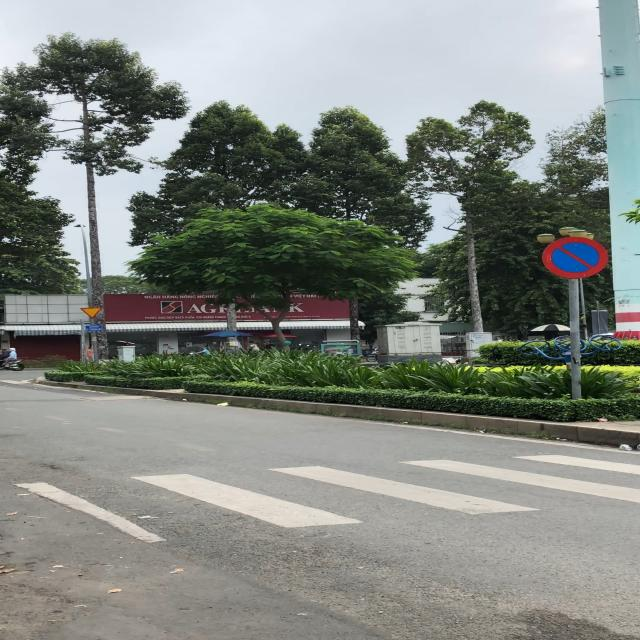Bien bao cam do xe: (542, 235, 610, 280)
Bien bao giao nhau voi duong uu tien: (78, 307, 104, 320)
